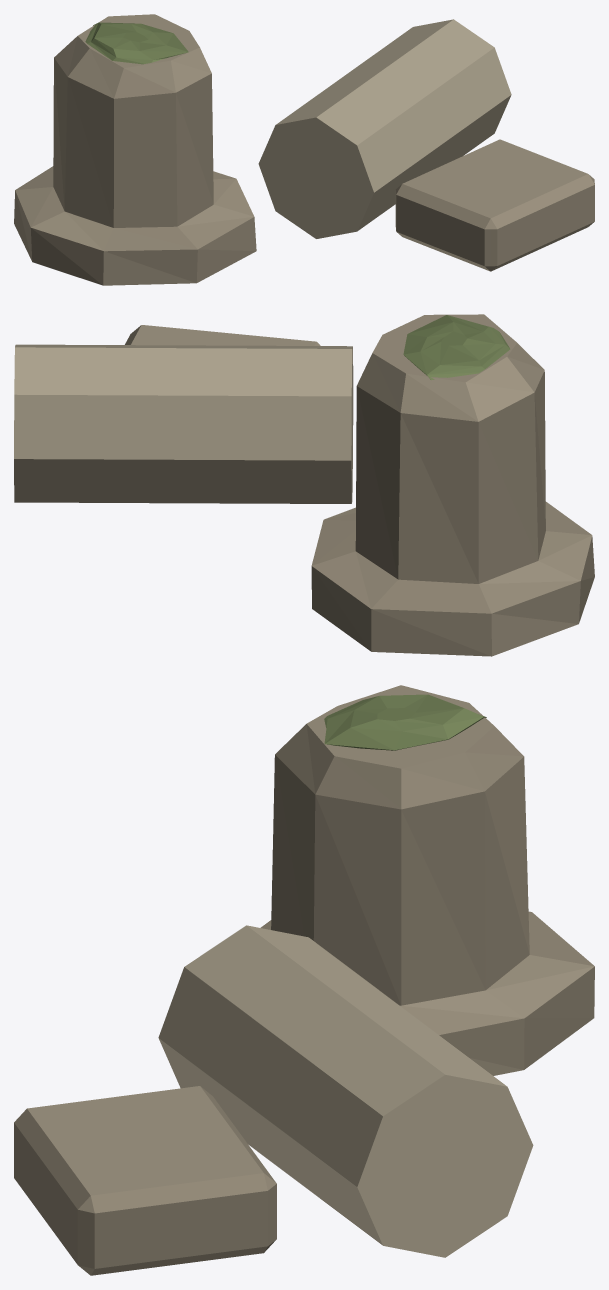
Rendered from fallen-columns.glb.
The picture shows the model from 3 angles, top to bottom: view 1: azimuth 30°, elevation 25°; view 2: azimuth 150°, elevation 25°; view 3: azimuth 270°, elevation 25°; orthographic projection. The views are drawn at different scales.
Parts seen in each view (by area): view 1: fallen-columns; view 2: fallen-columns; view 3: fallen-columns.
Part boxes in pixels (x1,y1,x2,y2): fallen-columns: (14,14,594,285); fallen-columns: (14,314,594,656); fallen-columns: (14,685,594,1275).
Size of the model in its own units: 2.56 by 1.06 by 1.84.
